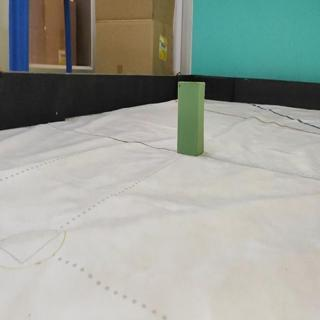greenbox: (177, 81, 204, 157)
